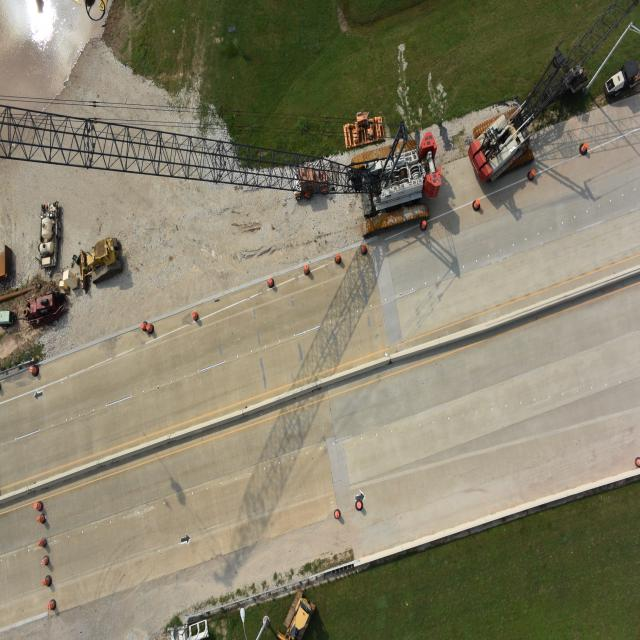fire: (0, 0, 103, 97)
